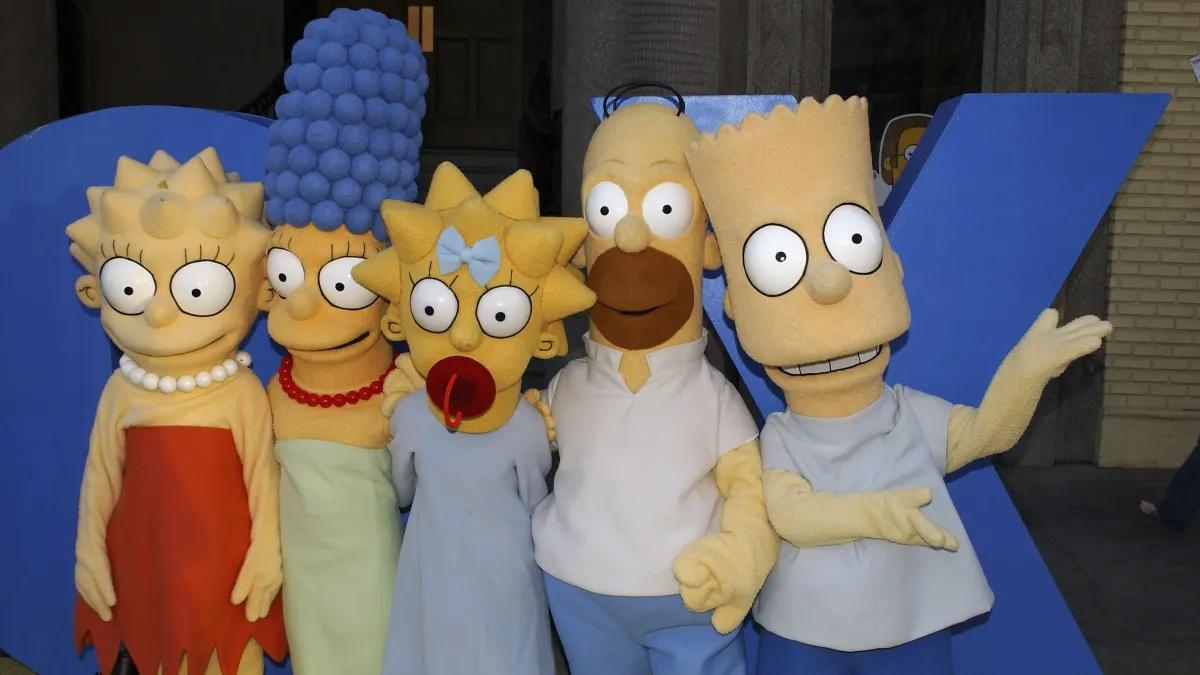Bart: (677, 87, 1127, 581)
Homer: (576, 95, 726, 422)
Lisa: (37, 140, 285, 430)
Maggie: (360, 162, 606, 478)
Marge: (250, 3, 438, 468)
